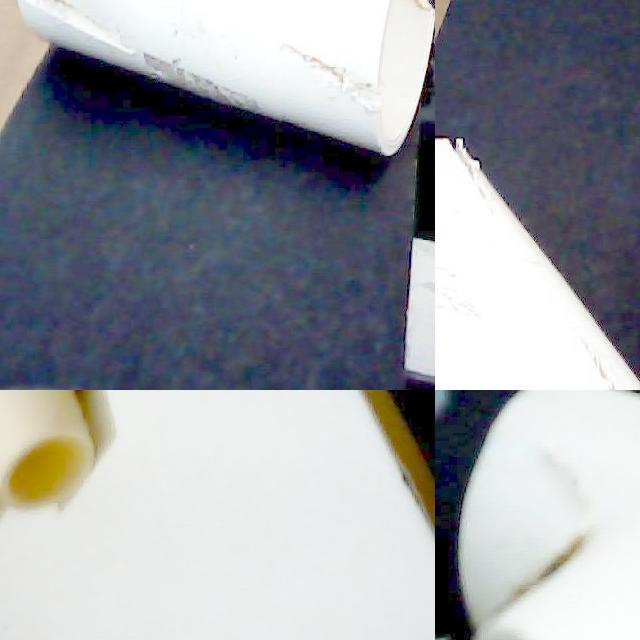Defective: (16, 0, 218, 93), (498, 505, 601, 615), (282, 31, 384, 126), (509, 508, 609, 602), (556, 299, 640, 390), (435, 154, 476, 325), (443, 138, 487, 222)
T Joint: (16, 0, 435, 159), (435, 139, 640, 390)
